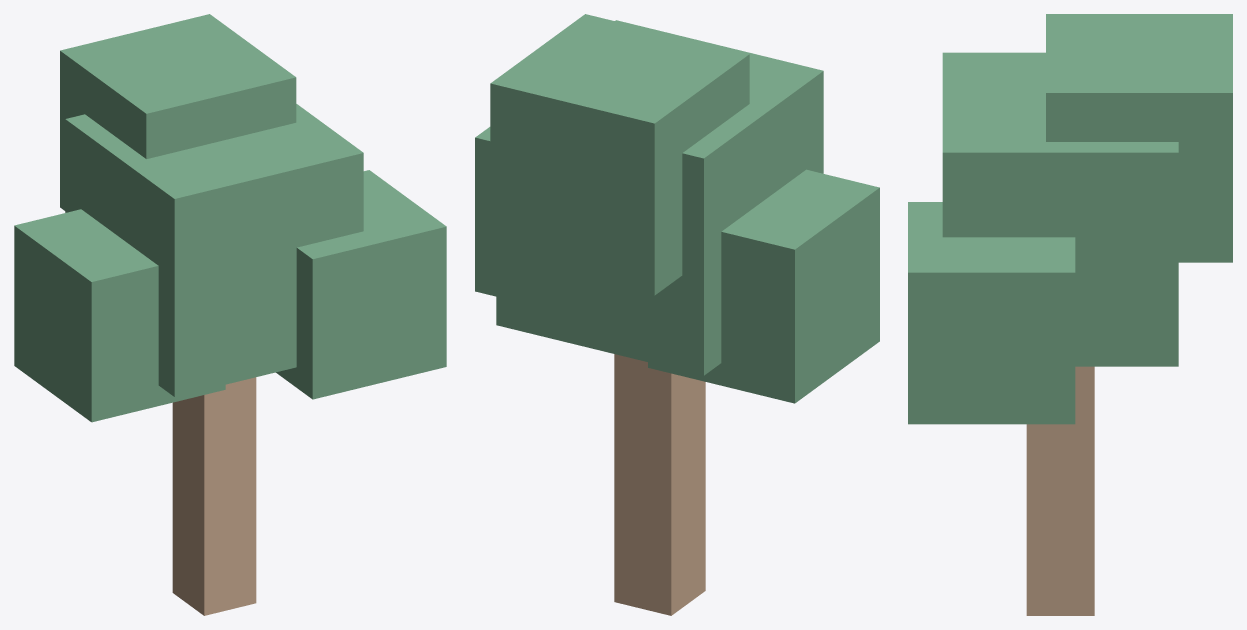
Rendered from tree-oak.gltf.
The picture shows the model from 3 angles, left to right: view 1: azimuth 30°, elevation 25°; view 2: azimuth 150°, elevation 25°; view 3: azimuth 270°, elevation 25°; orthographic projection. The views are drawn at different scales.
Visible parts, largest first — view 1: TreeLeaf, Wood; view 2: TreeLeaf, Wood; view 3: TreeLeaf, Wood.
Part boxes in pixels (x1,y1,x2,y2): TreeLeaf: (14, 14, 446, 422); Wood: (172, 377, 256, 615); TreeLeaf: (475, 14, 879, 403); Wood: (614, 354, 705, 615); TreeLeaf: (908, 14, 1232, 424); Wood: (1026, 366, 1094, 615).
Size of the model in its own units: 4.1 by 6.15 by 3.3.
